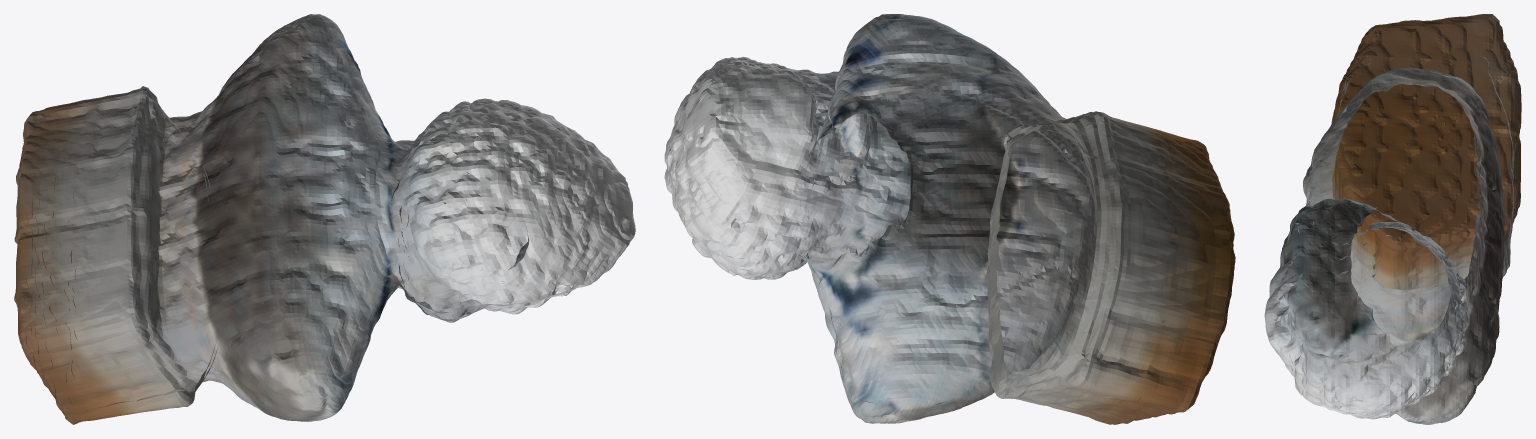
The model's file is bust_trier.glb.
3 views of the same model, side by side, from view 1: azimuth 30°, elevation 25°; view 2: azimuth 150°, elevation 25°; view 3: azimuth 270°, elevation 25° (orthographic). The views are drawn at different scales.
Visible parts, largest first — view 1: geometry_0; view 2: geometry_0; view 3: geometry_0.
Part boxes in pixels (bbox=[...]): geometry_0: bbox=[14, 14, 635, 424]; geometry_0: bbox=[664, 14, 1235, 424]; geometry_0: bbox=[1264, 14, 1521, 424].
Bounding box in the file's own units: 1.02 × 0.7111 × 0.4787.
